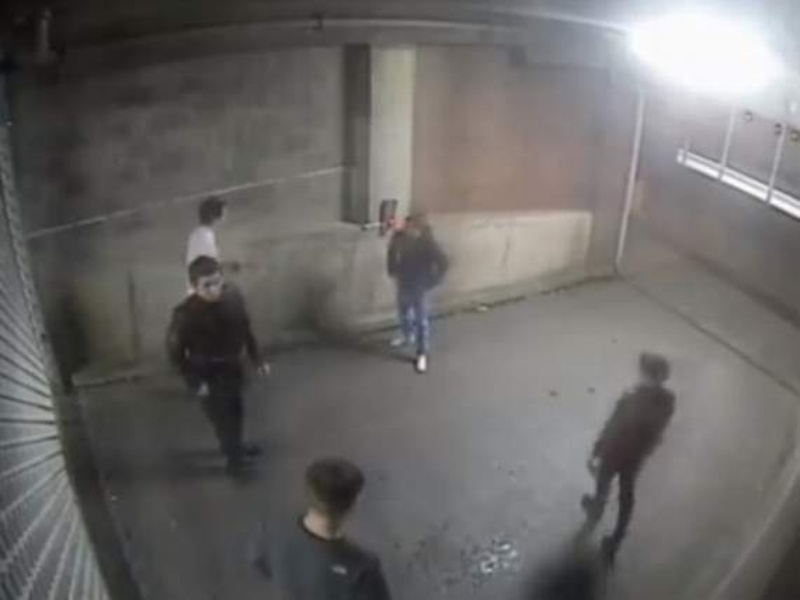person: (157, 252, 277, 484), (568, 346, 688, 567), (360, 200, 458, 379)
